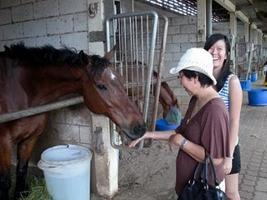person: (128, 48, 228, 199)
